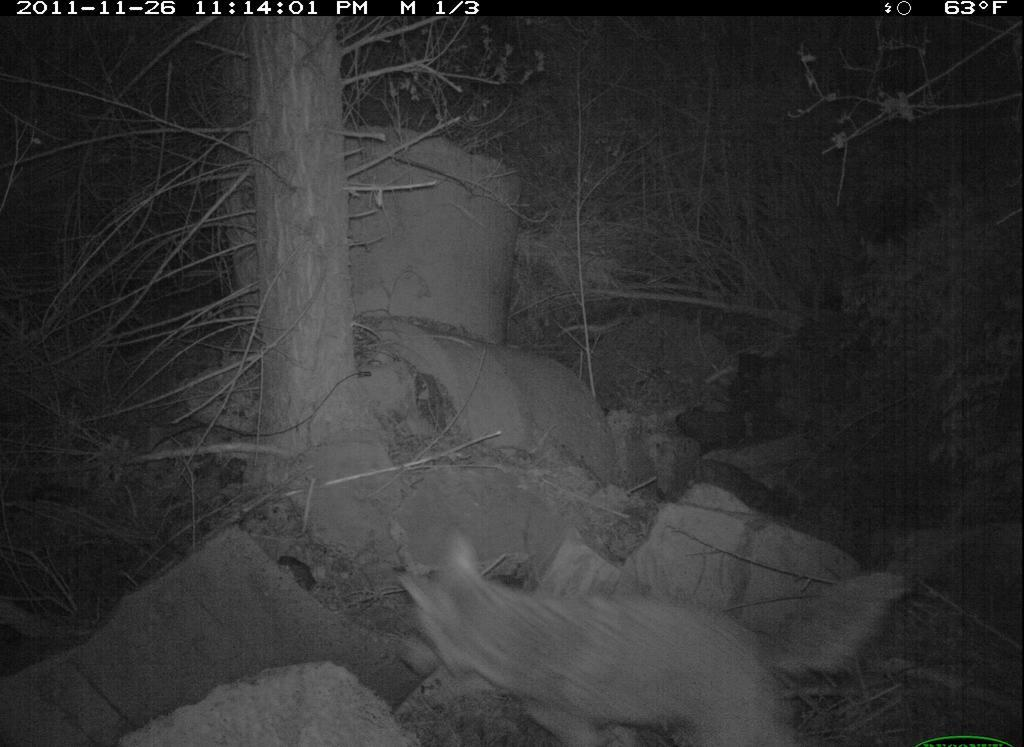coyote: (388, 530, 815, 747)
